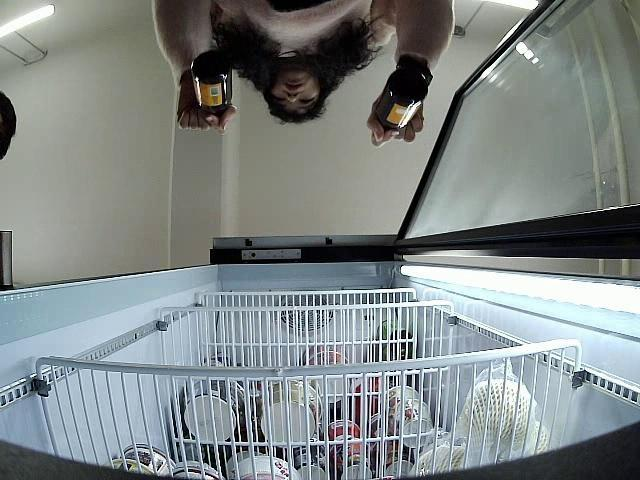17_vita500: (374, 73, 428, 140), (190, 50, 233, 133)
